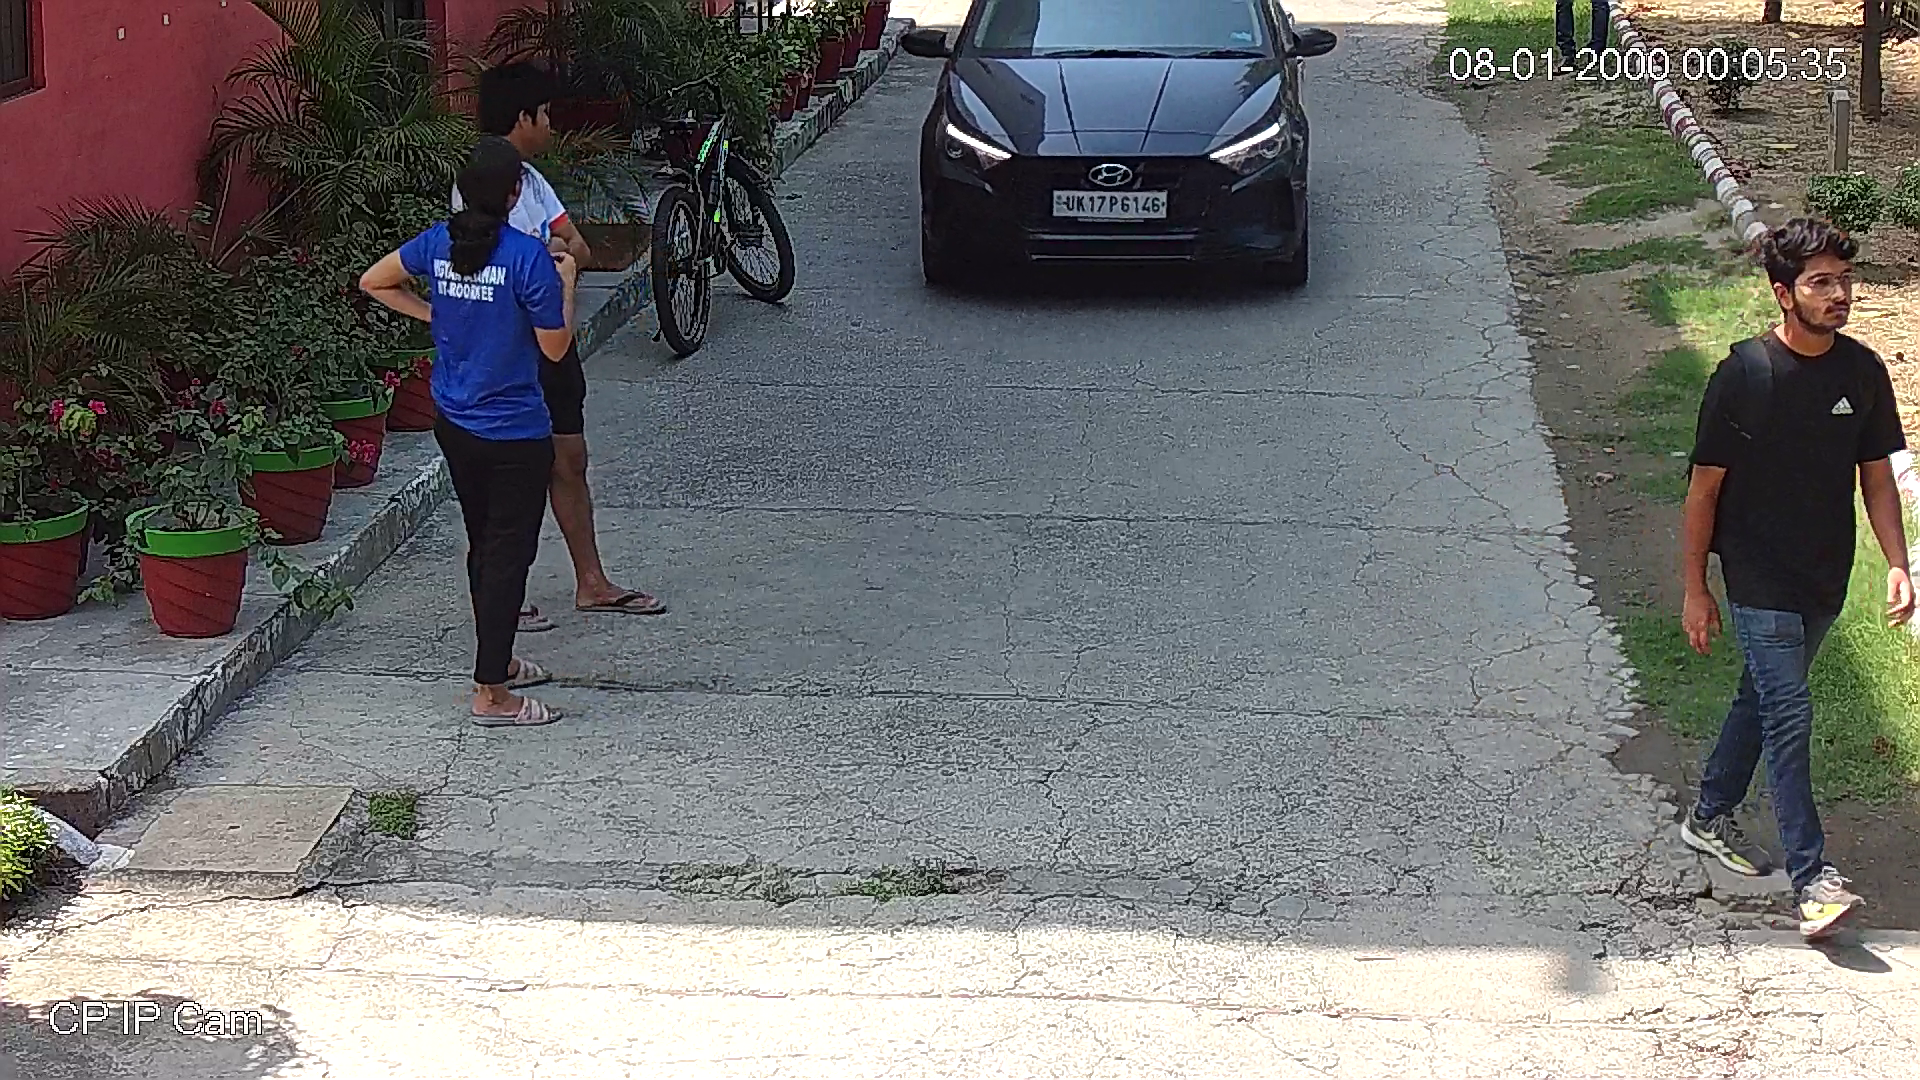plate: (1055, 188, 1169, 221)
